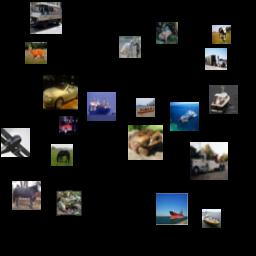airplane: (1, 128, 30, 157)
automobile: (43, 75, 78, 110), (59, 116, 78, 135)
deer: (25, 42, 47, 64)
frog: (128, 125, 163, 160), (56, 190, 82, 216), (156, 22, 178, 44)
ship: (156, 193, 188, 225), (170, 102, 199, 131), (87, 92, 116, 121), (209, 85, 238, 114), (136, 98, 155, 117), (202, 209, 221, 228)
truck: (190, 142, 228, 180), (30, 2, 62, 34), (205, 48, 227, 70)
